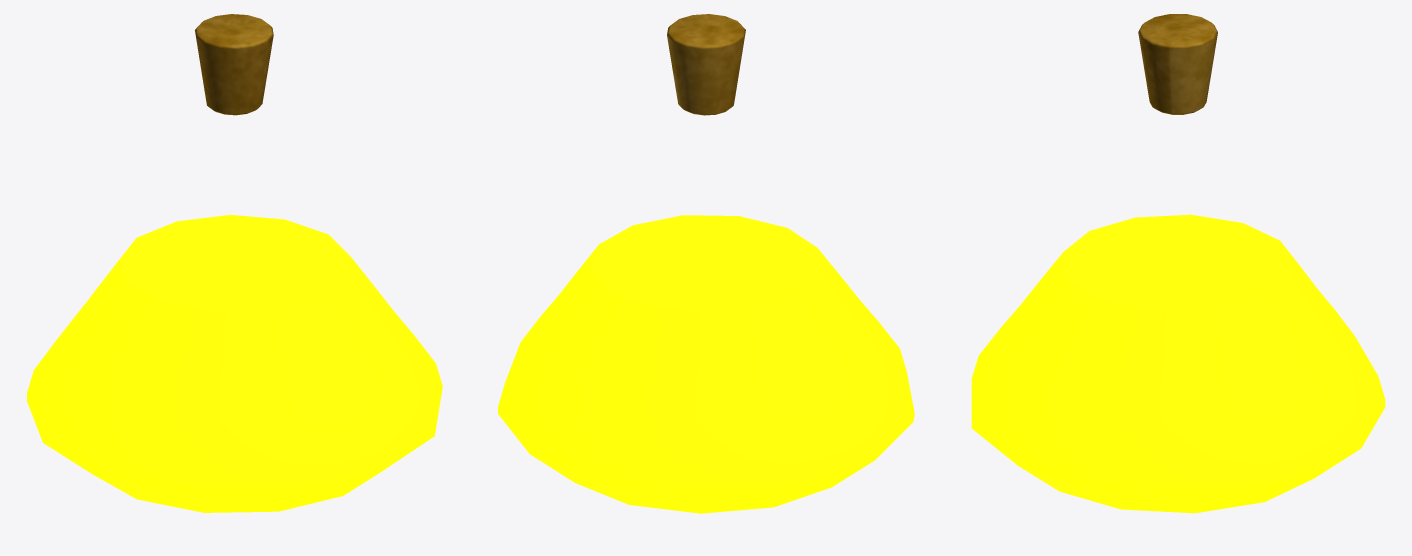
The model's file is MagicPotion_3.fbx.
3 renders of one model, left to right at view 1: azimuth 30°, elevation 25°; view 2: azimuth 150°, elevation 25°; view 3: azimuth 270°, elevation 25°, orthographic.
Visible parts, largest first — view 1: MagicPotion_3; view 2: MagicPotion_3; view 3: MagicPotion_3.
Boxes of the visible parts, bbox=[...] form: MagicPotion_3: bbox=[27, 14, 442, 512]; MagicPotion_3: bbox=[498, 14, 914, 513]; MagicPotion_3: bbox=[971, 14, 1385, 513].
Bounding box in the file's own units: 52.64 × 57.85 × 52.26.
